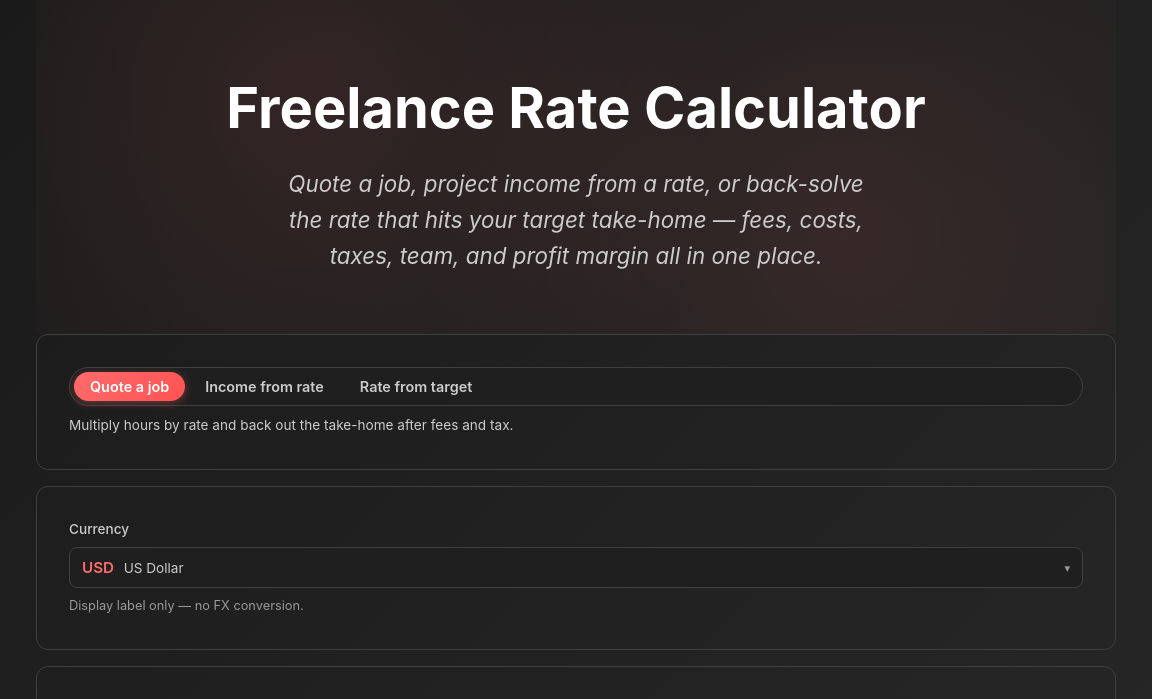
it: <FreelanceRateCalculator /> — Quote mode › Rate mode renders required-rate display + sensitivity table
The width and height of the screenshot is (1152, 699).
Click the radio button labelled "Rate from target": (416, 386) [344, 372, 488, 401]
(page scrolled)
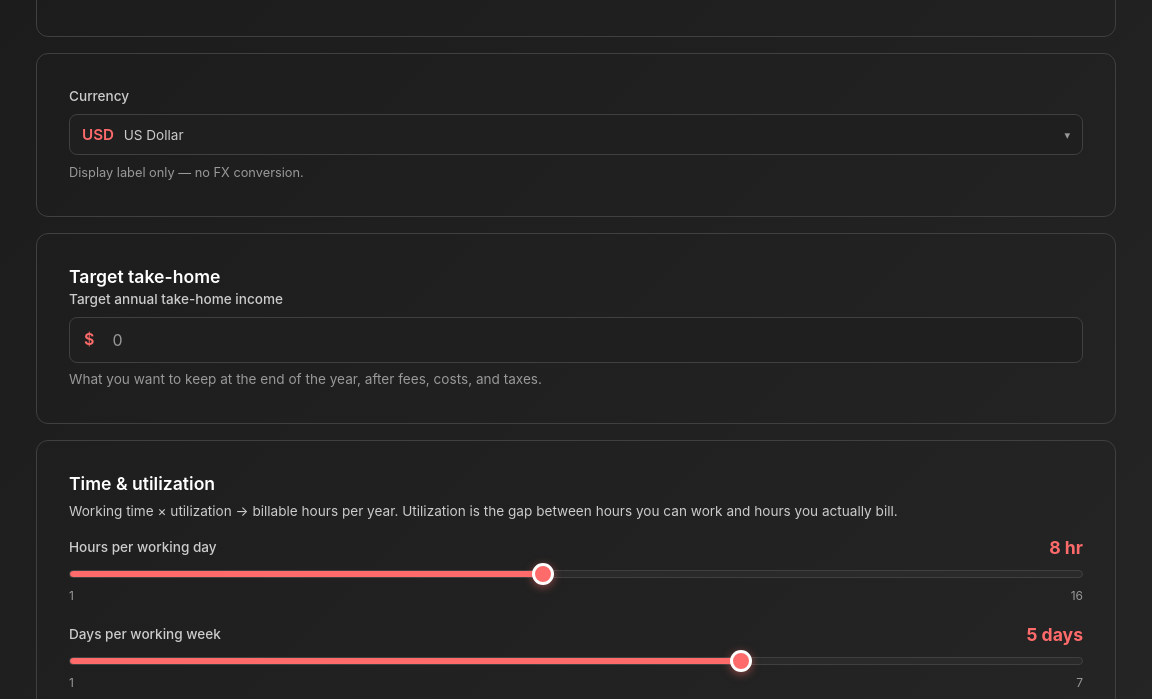
Check: the number field labelled "Target annual take-home income" is shown
In the number field labelled "Target annual take-home income": (590, 340) [98, 318, 1082, 362], type "100000"
(page scrolled)
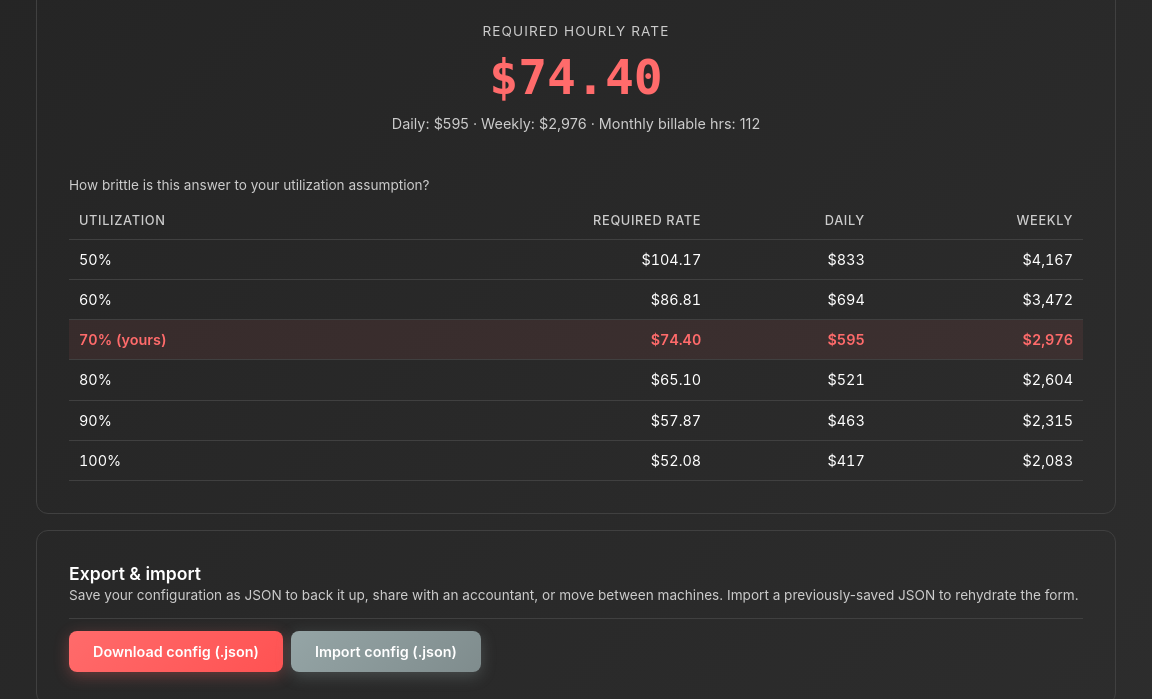
Check: the text "Required hourly rate" is shown, box [482, 23, 670, 39]
Check: the text "50%" is shown, box [69, 240, 362, 280]
Check: the text "90%" is shown, box [69, 400, 362, 440]
